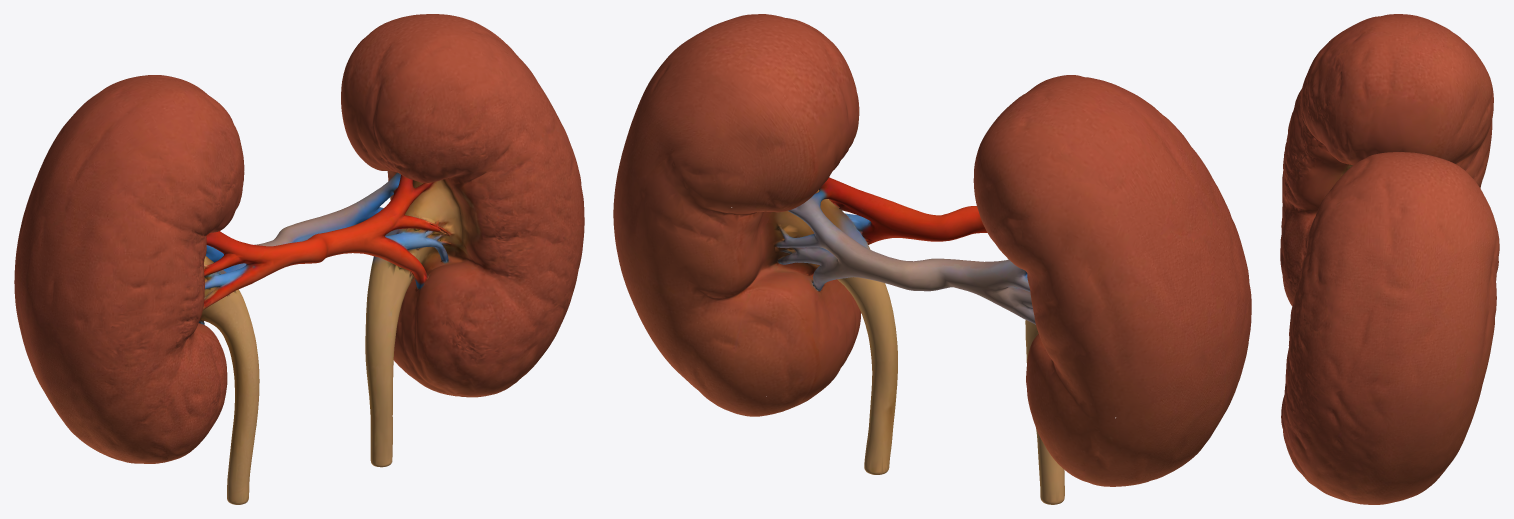
Rendered from kidneys.glb.
The picture shows the model from 3 angles, left to right: view 1: azimuth 30°, elevation 25°; view 2: azimuth 150°, elevation 25°; view 3: azimuth 270°, elevation 25°; orthographic projection. The views are drawn at different scales.
Parts seen in each view (by area): view 1: tripo_node_e5de9656-5b36-4996-8f10-3690a202b494; view 2: tripo_node_e5de9656-5b36-4996-8f10-3690a202b494; view 3: tripo_node_e5de9656-5b36-4996-8f10-3690a202b494.
Part boxes in pixels (bbox=[...]): tripo_node_e5de9656-5b36-4996-8f10-3690a202b494: bbox=[14, 14, 584, 504]; tripo_node_e5de9656-5b36-4996-8f10-3690a202b494: bbox=[613, 14, 1251, 504]; tripo_node_e5de9656-5b36-4996-8f10-3690a202b494: bbox=[1280, 14, 1499, 504].
Size of the model in its own units: 0.9793 by 0.7199 by 0.3718.
Materials: 1 (1 with a texture image).
